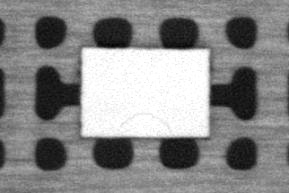DIE_CRACK: (118, 109, 171, 132)
